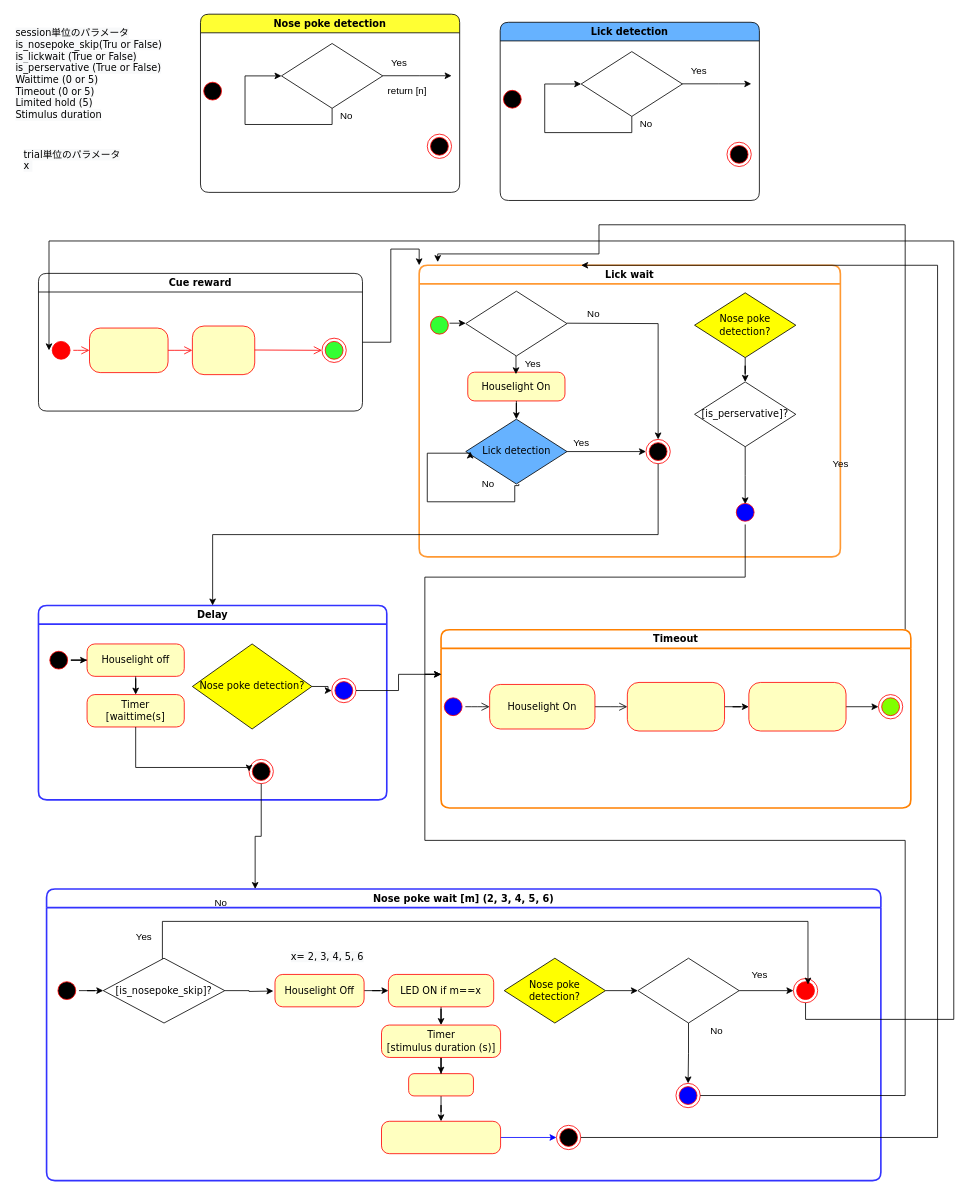
Some shapes in this 974 by 1196 pixel diagram are drawn without their labels. The shapes that lost their labels are listed below. From the top down, each one's box as (x1, y1, x2, y2) in pixels, then its label:
(281, 43, 383, 108): Is [n] nose-poked?
(580, 51, 682, 116): Is licked?
(465, 290, 567, 356): [is_lickwait]?
(89, 327, 168, 373): Tone Reward_LED
(192, 325, 255, 375): Syringe pump
(627, 682, 725, 731): Timer [Timeout(s)]
(748, 682, 846, 731): Houselight Flash
(637, 957, 739, 1023): m==n
(408, 1073, 473, 1096): LED OFF
(381, 1120, 501, 1154): Timer [Limited hold (s)]
